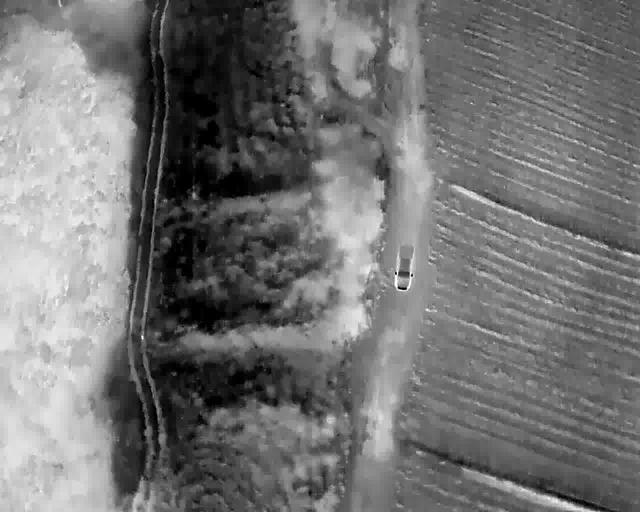car: (393, 247, 413, 292)
